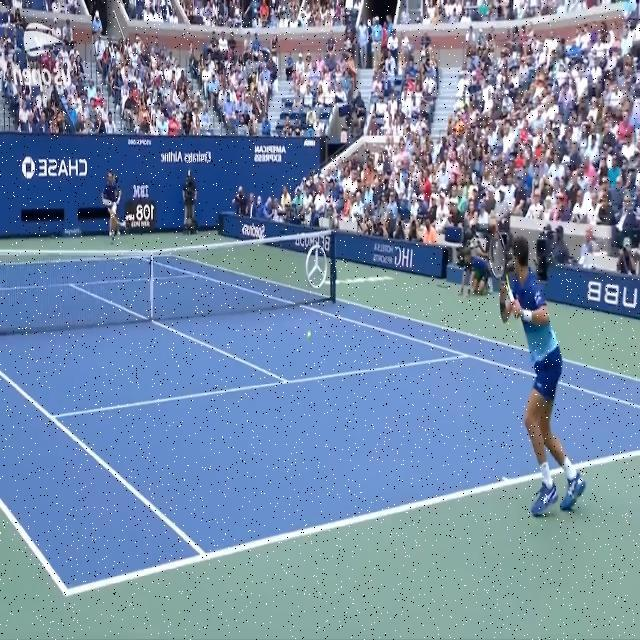Emirates: (184, 150, 212, 164)
